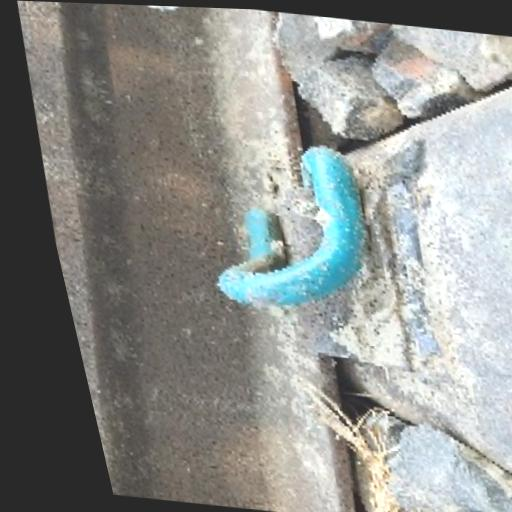erc_good: (218, 147, 407, 366)
